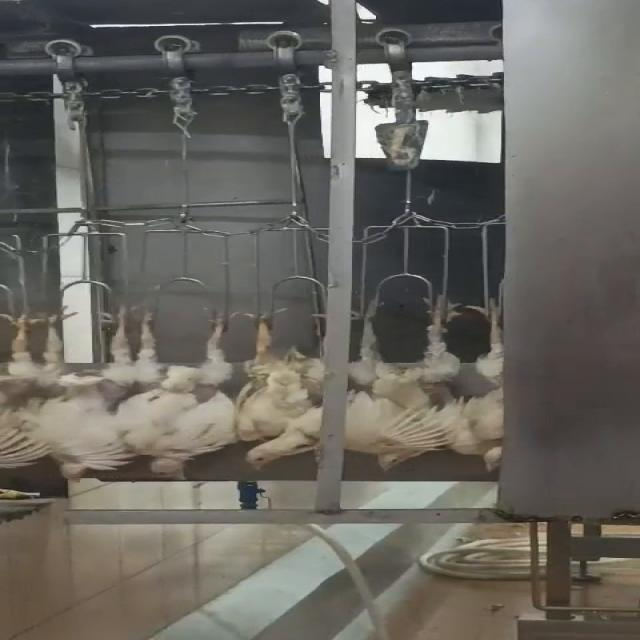chicken: (128, 302, 251, 480), (351, 293, 454, 472), (238, 298, 328, 476), (42, 300, 122, 486), (0, 301, 69, 472), (443, 288, 501, 475)
